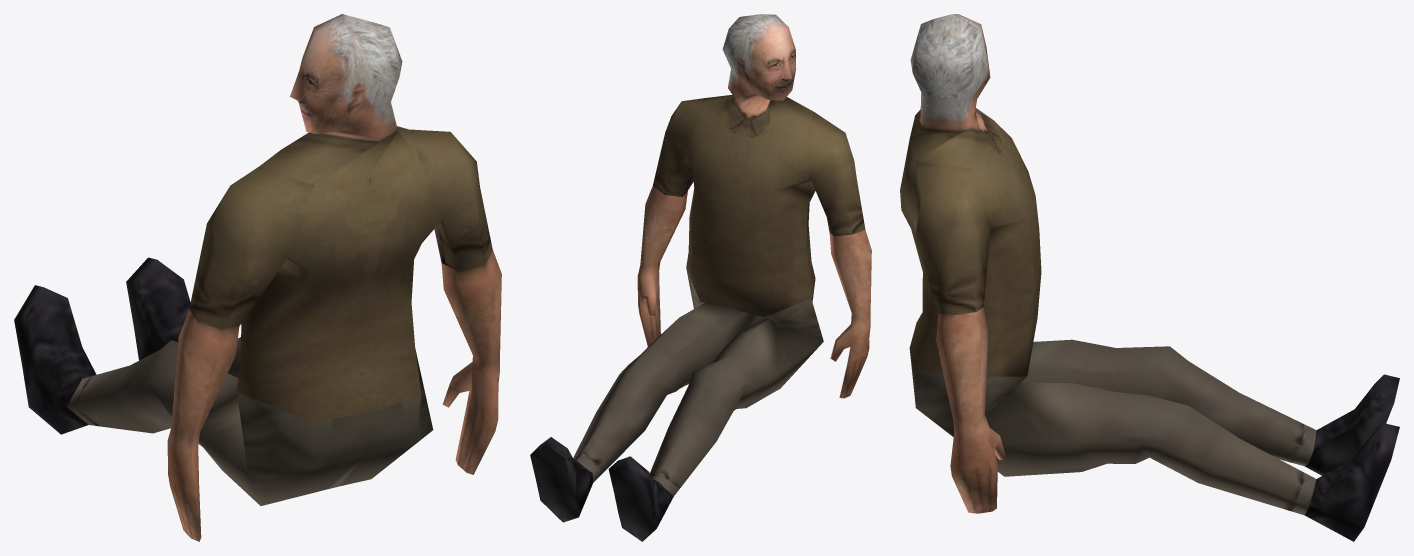
Rendered from guyincar.obj.
The picture shows the model from 3 angles, left to right: view 1: azimuth 30°, elevation 25°; view 2: azimuth 150°, elevation 25°; view 3: azimuth 270°, elevation 25°; orthographic projection. The views are drawn at different scales.
Visible parts, largest first — view 1: Character_Male; view 2: Character_Male; view 3: Character_Male.
Part boxes in pixels (box(x1,y1,x2,y2)): Character_Male: box(14, 14, 501, 541); Character_Male: box(530, 14, 871, 541); Character_Male: box(900, 14, 1399, 541).
Bounding box in the file's own units: 2.24 × 3.77 × 3.39.
Materials: 1 (1 with a texture image).
